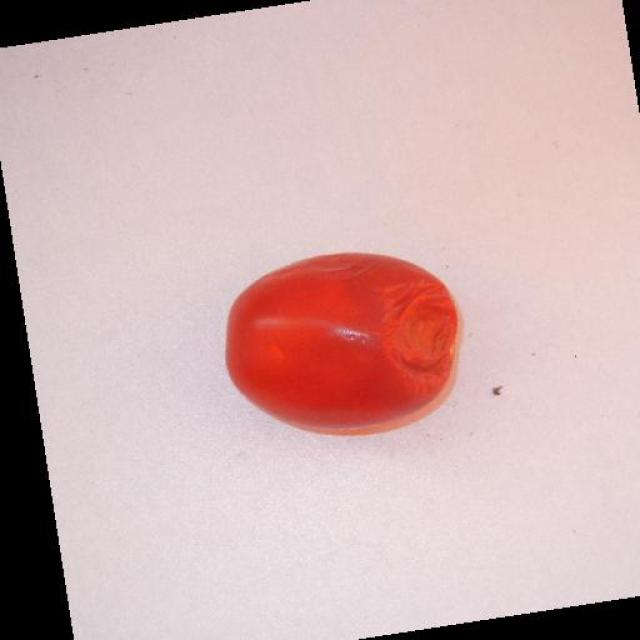Stale_tomato: (377, 259, 471, 400)
